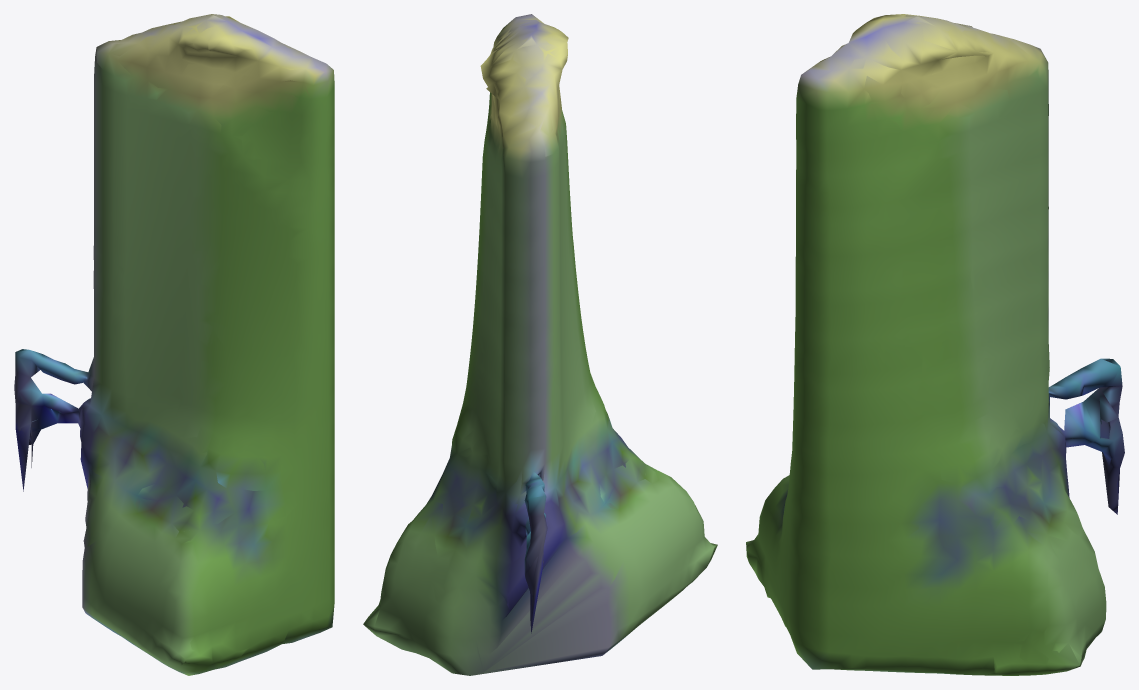
The model's file is london_big_ben.glb.
The picture shows the model from 3 angles, left to right: view 1: azimuth 30°, elevation 25°; view 2: azimuth 150°, elevation 25°; view 3: azimuth 270°, elevation 25°; orthographic projection. The views are drawn at different scales.
Parts seen in each view (by area): view 1: london_big_ben; view 2: london_big_ben; view 3: london_big_ben.
Part boxes in pixels (x1=…): london_big_ben: x1=14, y1=14, x2=334, y2=675; london_big_ben: x1=363, y1=14, x2=717, y2=675; london_big_ben: x1=746, y1=14, x2=1124, y2=675.
Size of the model in its own units: 0.6111 by 1.61 by 0.8927.
